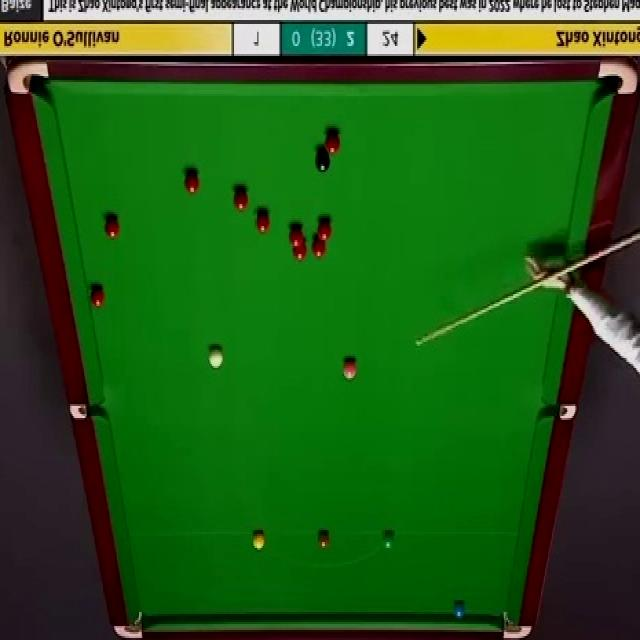black-ball: (314, 150, 331, 175)
blue-ball: (454, 598, 466, 620)
brown-ball: (318, 530, 331, 550)
green-ball: (381, 529, 395, 550)
pink-ball: (343, 354, 355, 380)
red-ball: (287, 220, 305, 248), (182, 171, 200, 195), (233, 186, 249, 212), (89, 284, 106, 308), (324, 132, 340, 156), (254, 211, 270, 235), (312, 236, 327, 260), (292, 238, 307, 262), (318, 217, 332, 241), (105, 217, 118, 240)
white-ball: (207, 343, 226, 371)
yellow-ball: (251, 530, 266, 551)
